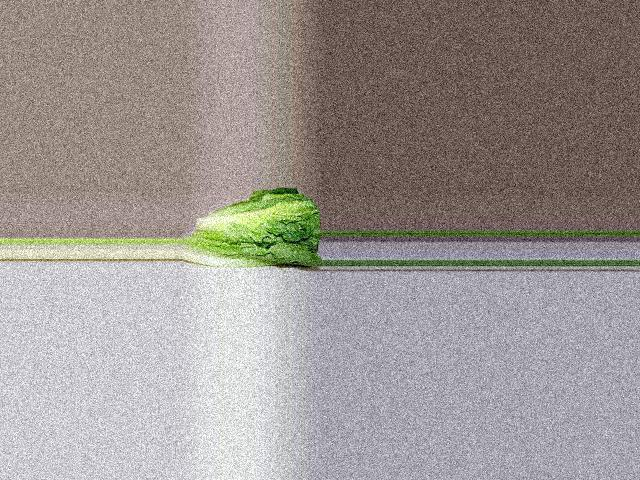lettuce: (189, 197, 322, 271)
